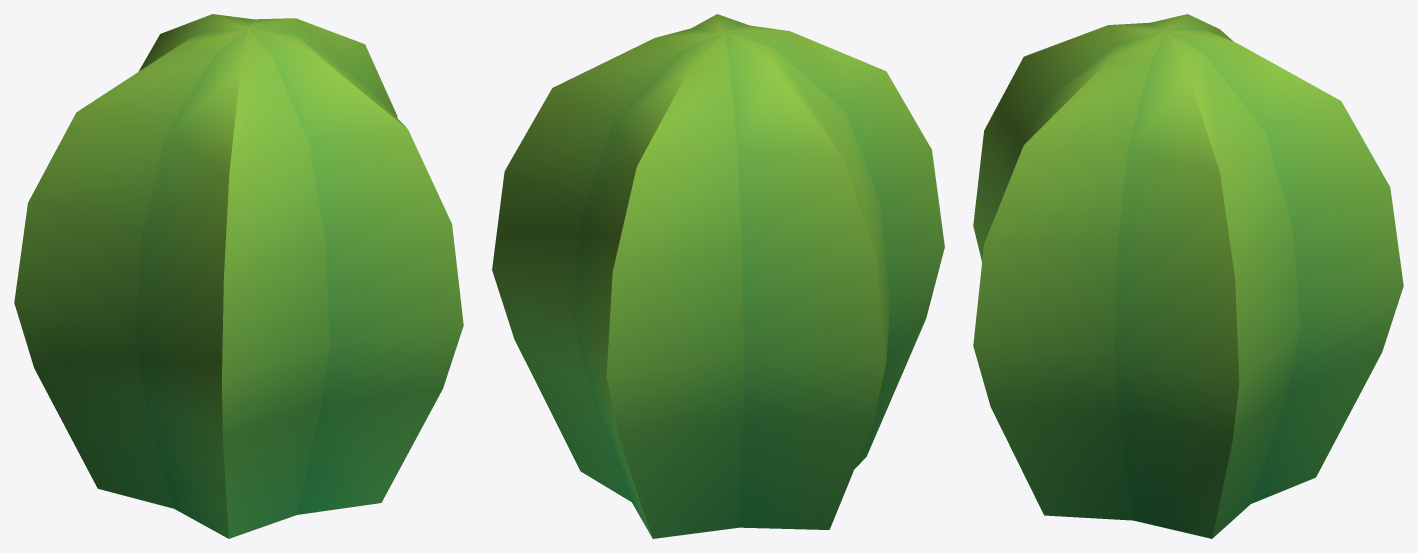
Rendered from cactus_B.fbx.
3 renders of one model, left to right at view 1: azimuth 30°, elevation 25°; view 2: azimuth 150°, elevation 25°; view 3: azimuth 270°, elevation 25°, orthographic.
Visible parts, largest first — view 1: cactus_B; view 2: cactus_B; view 3: cactus_B.
Part boxes in pixels (x1,y1,x2,y2): cactus_B: [14, 14, 463, 538]; cactus_B: [492, 14, 944, 538]; cactus_B: [973, 14, 1403, 538].
Size of the model in its own units: 34.78 by 38.09 by 33.08.
1 material, 1 textured.
